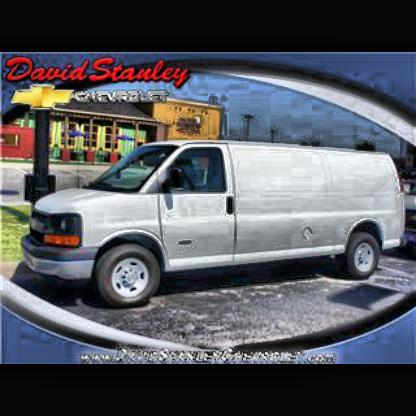Chevrolet Express Van 2007: (19, 139, 409, 311)
